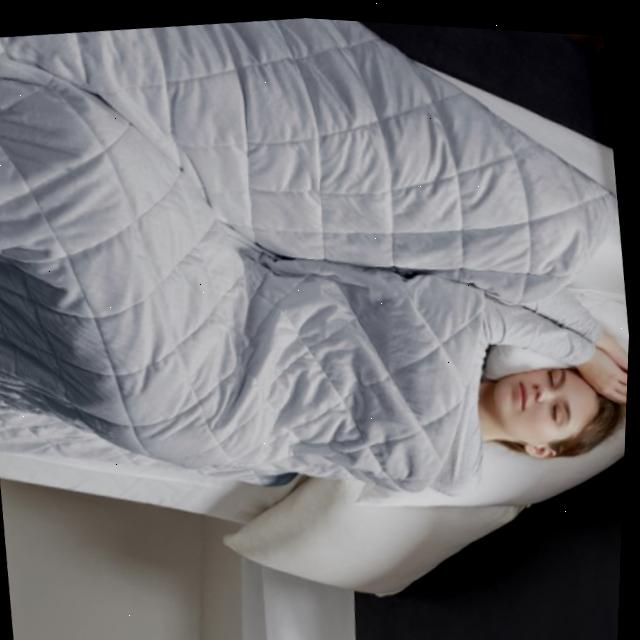sleeping-person: (0, 0, 640, 563)
